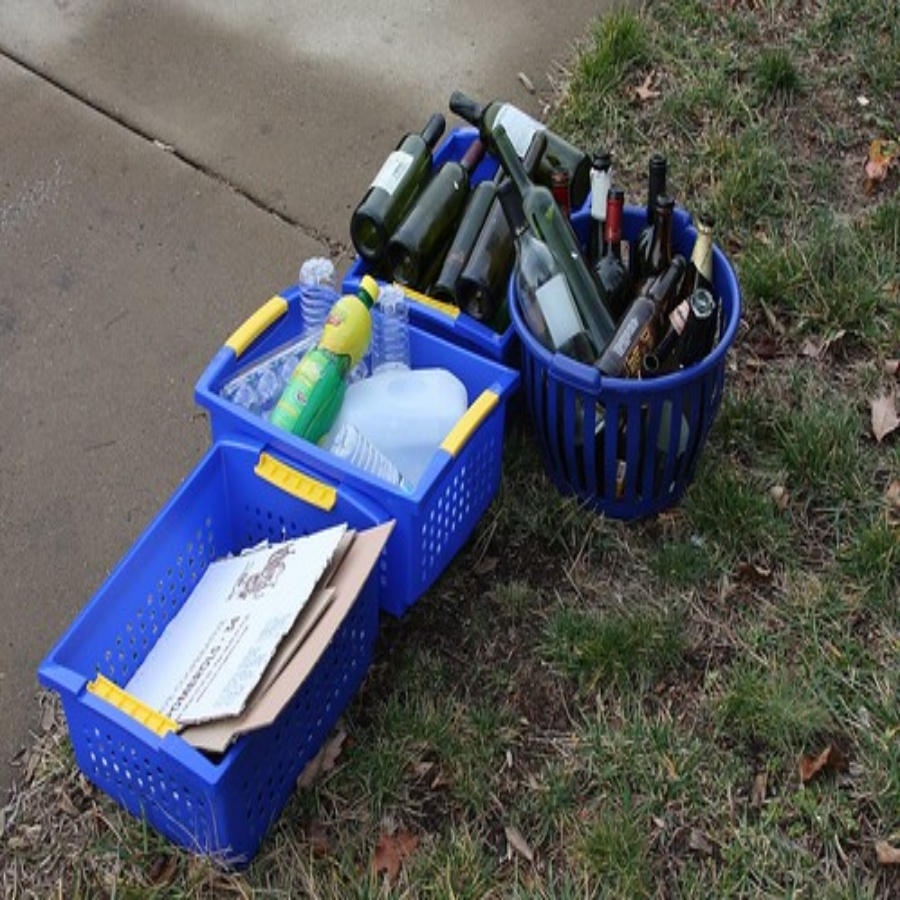beer: (604, 259, 684, 373)
